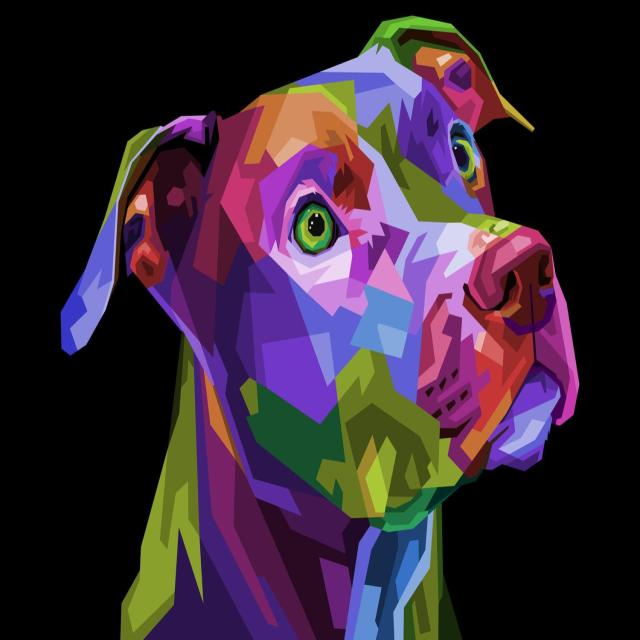Dog: (55, 9, 591, 508)
